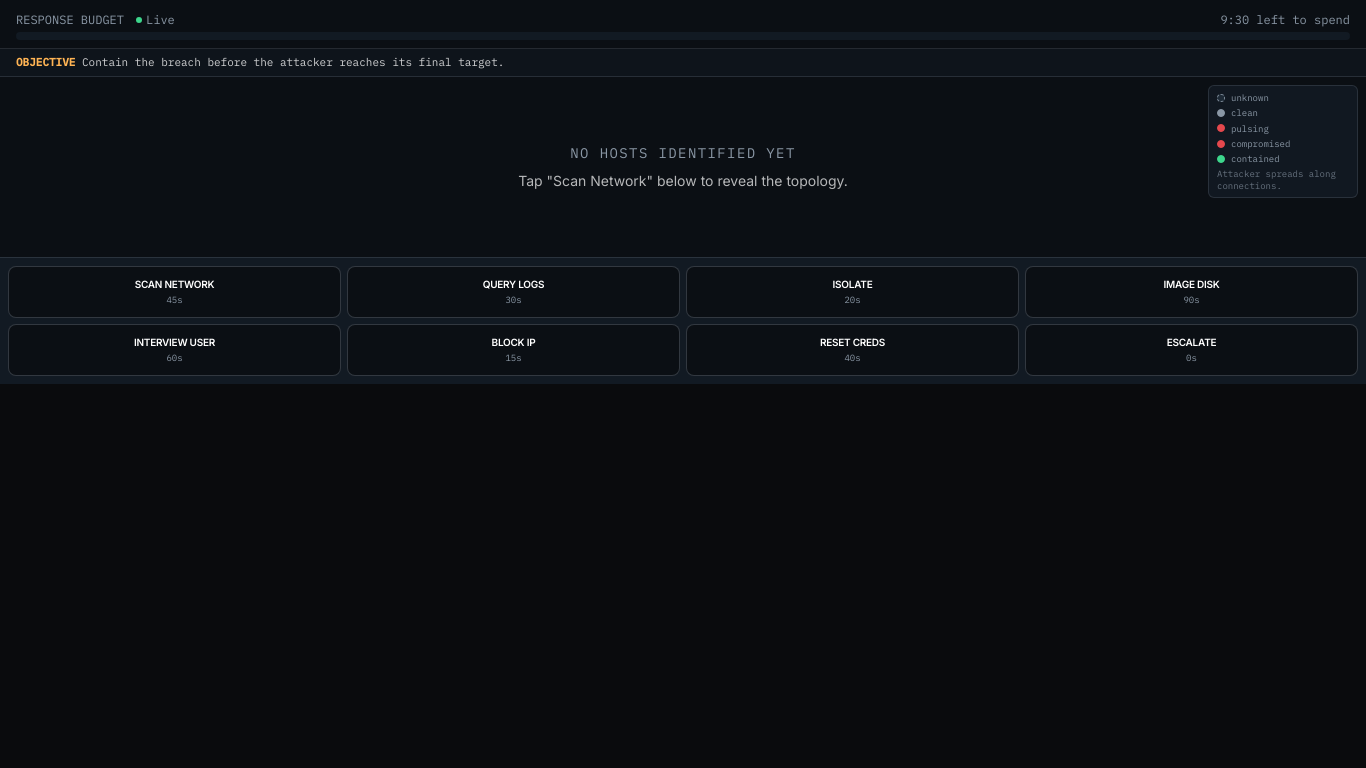
Scenario: ActionConsole › connection feedback › surfaces a toast when submitVerb fails because the socket is down
Click the text "Scan Network".
click(174, 284)  # box [135,278,214,291]
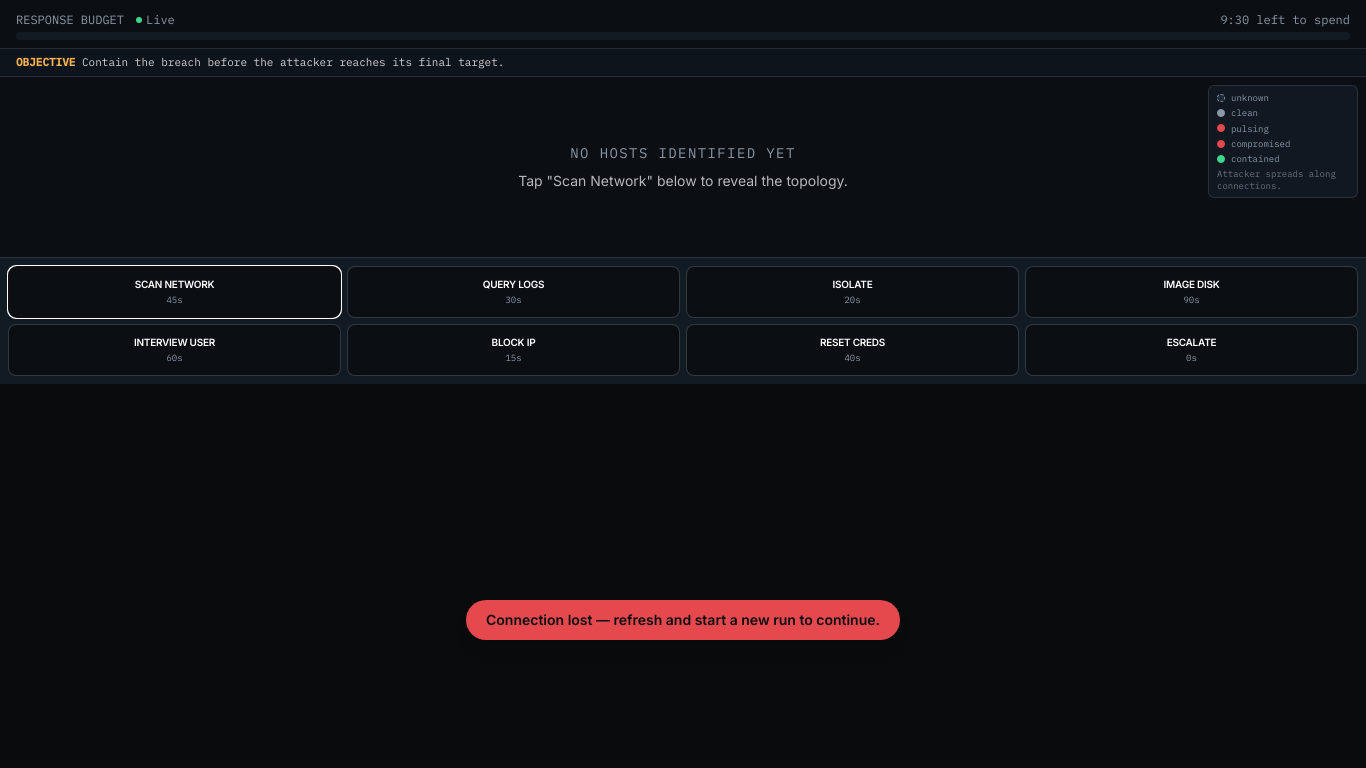
Now the message shows "Connection lost", box [486,611,880,628]
